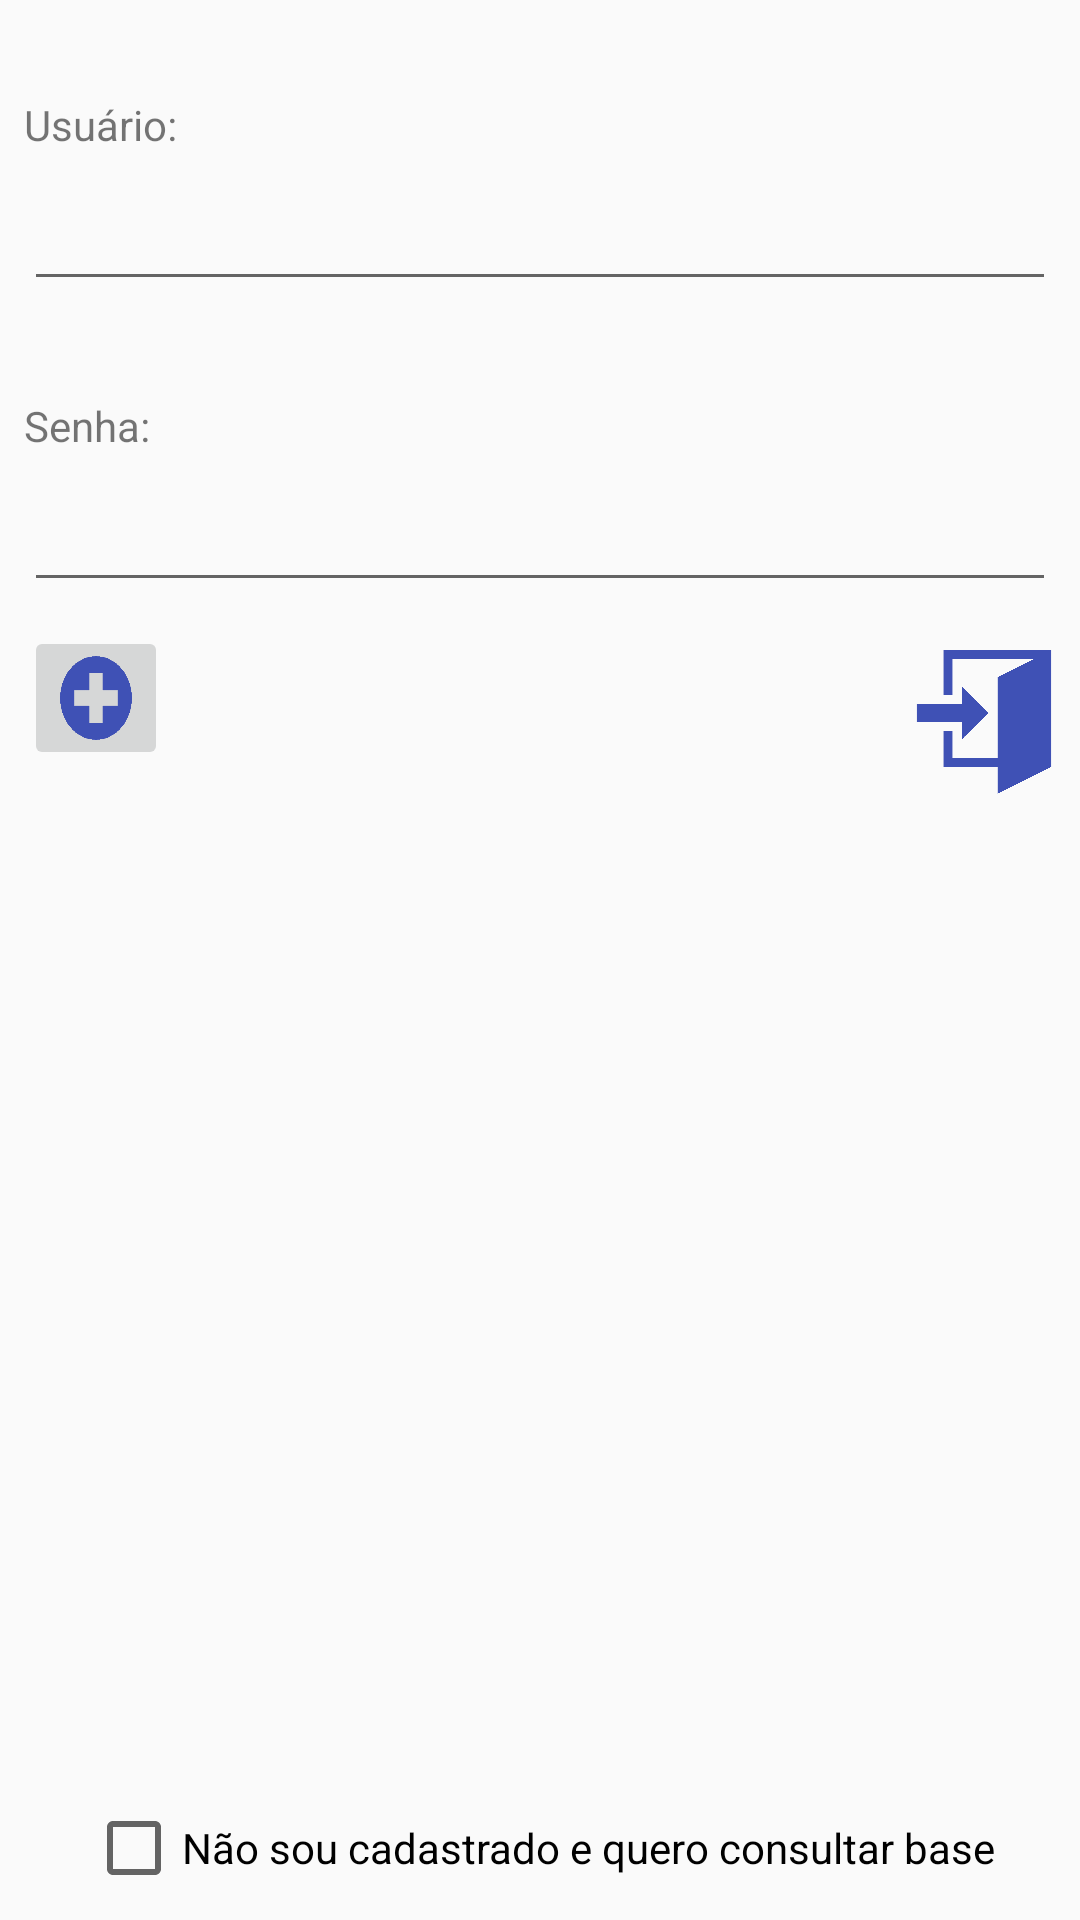

Named icons in this screenshot (1080*1920) and their centers, (x=x, y=y):
enter: (x=984, y=722)
newicone: (x=96, y=698)
